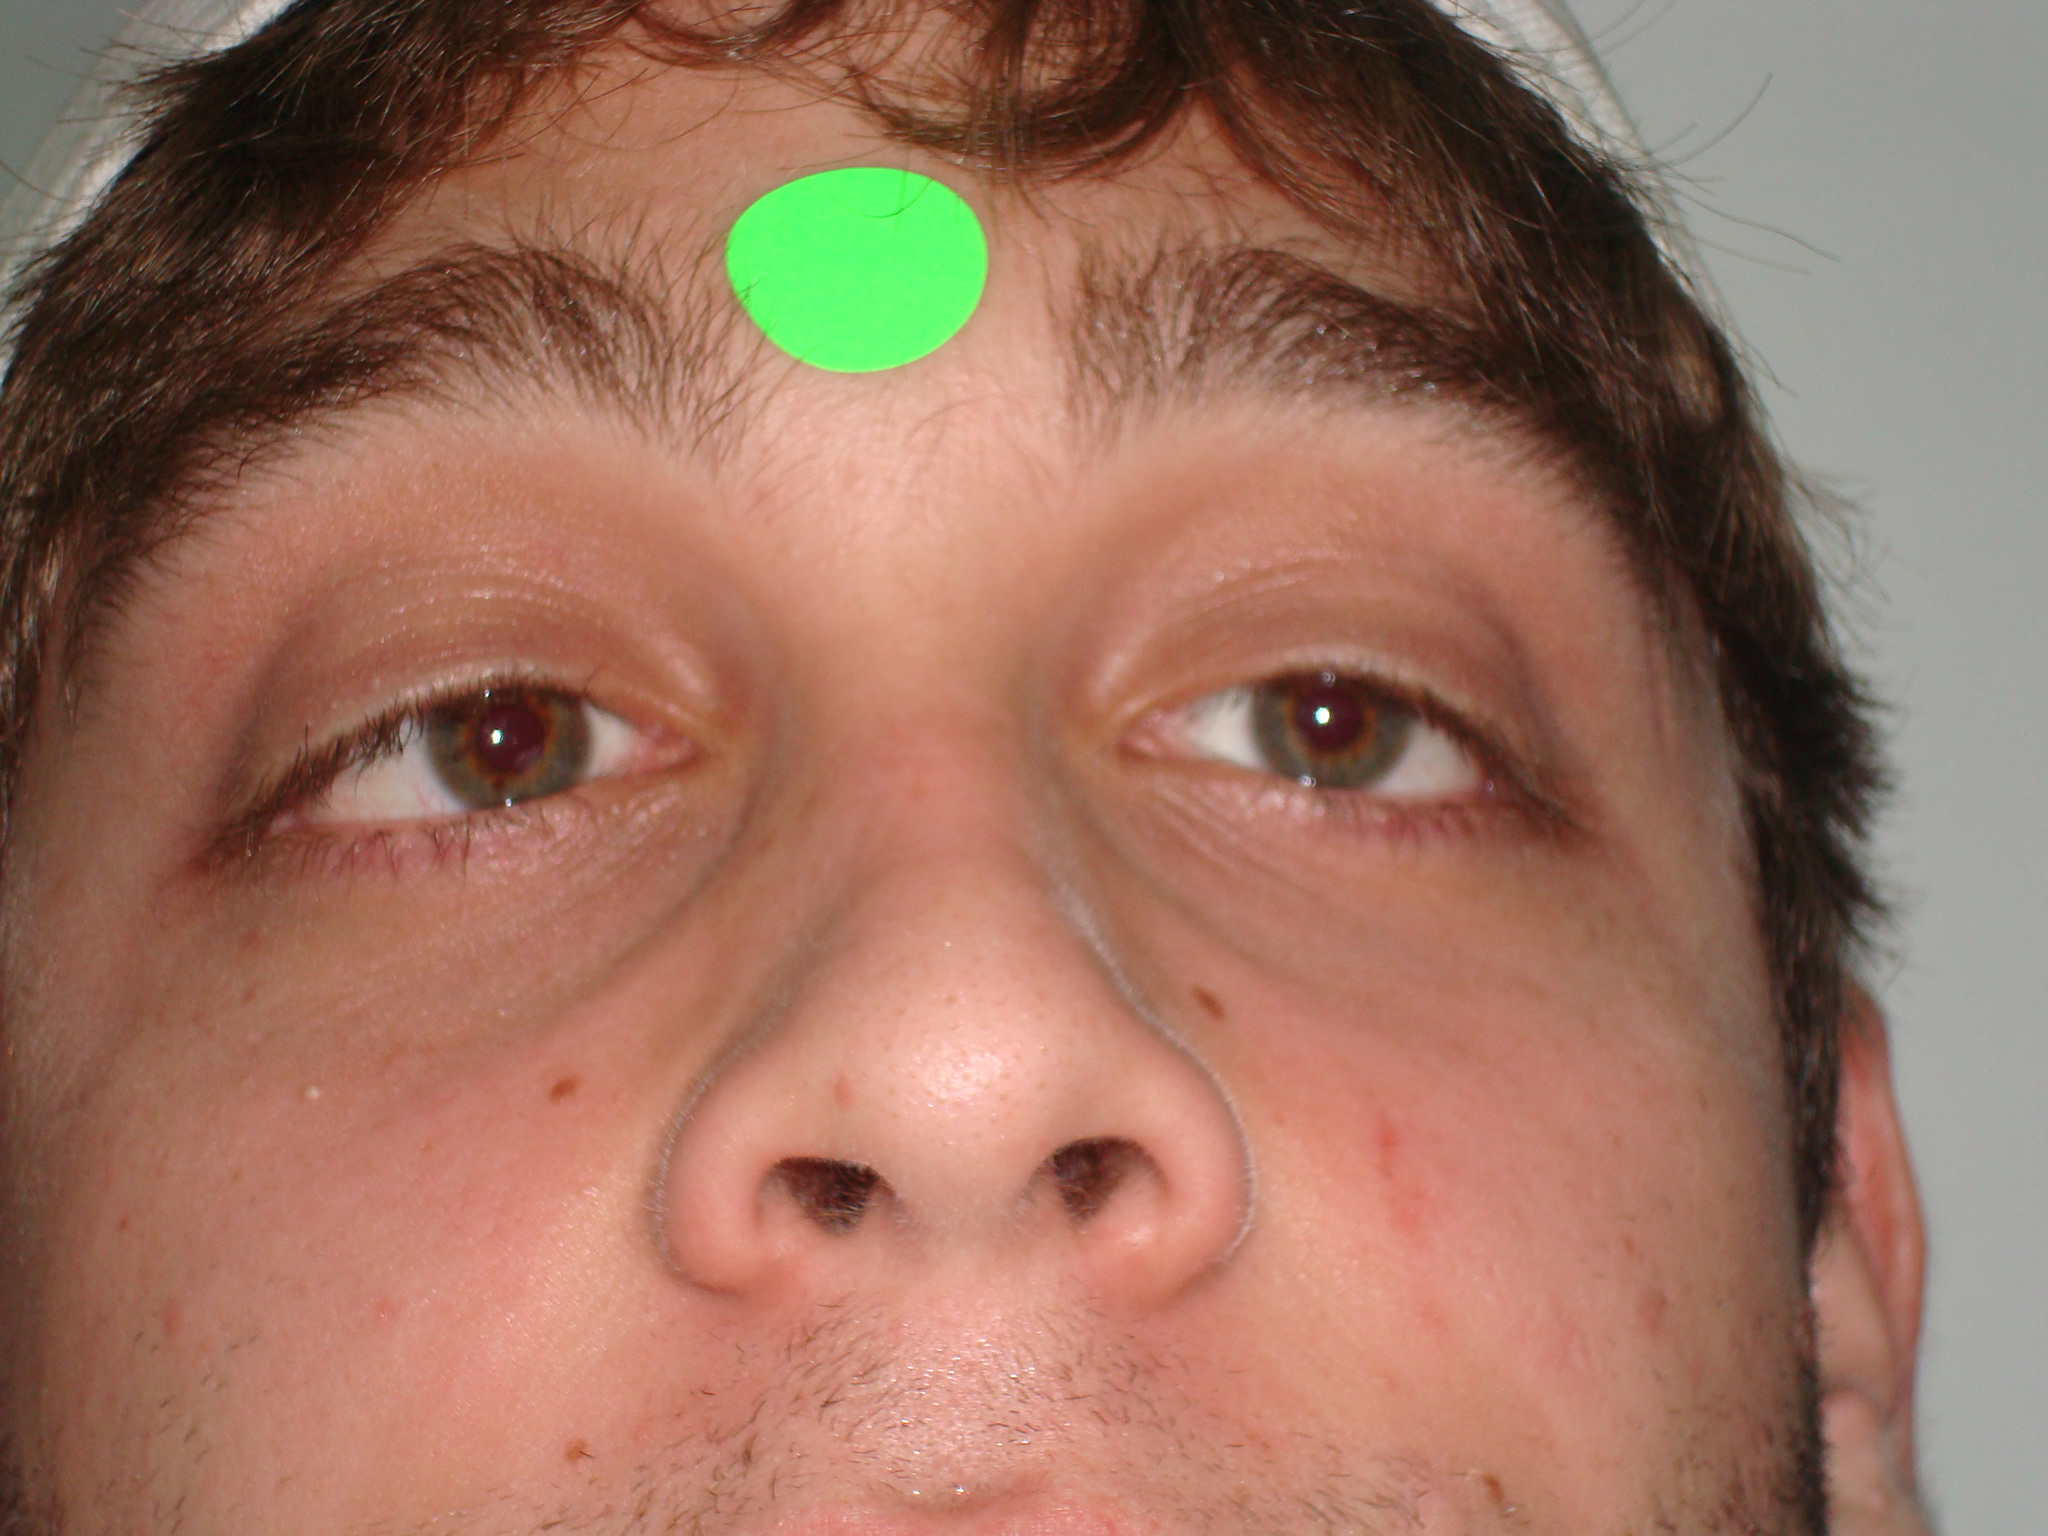flash: (484, 724, 508, 749), (1311, 705, 1334, 726)
limbo: (427, 666, 595, 812), (1255, 652, 1397, 783)
